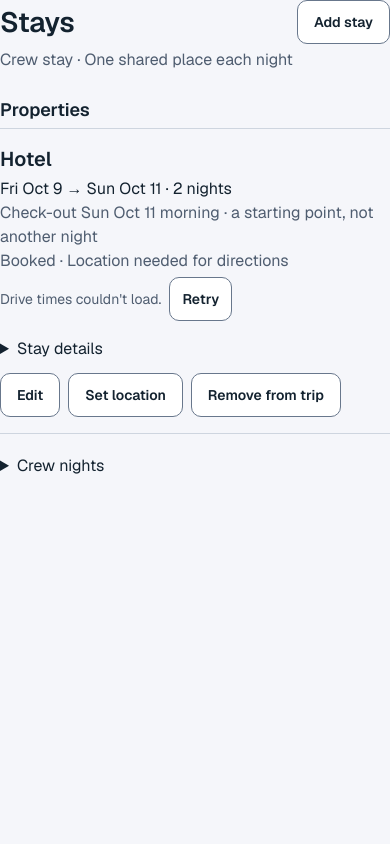
Test: Crew stays editor › previews removal and keeps the saved row when removal fails
Click the button with aria-label "Remove Hotel from trip".
click(266, 395)  # box [191,373,341,417]
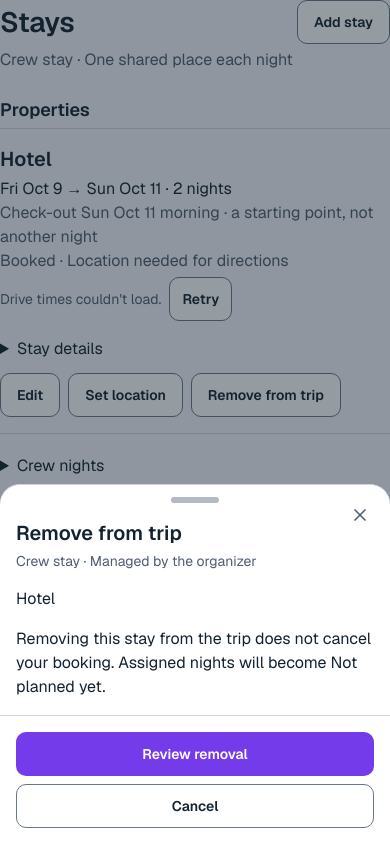
Expected: the text "does not cancel your booking" is shown, [16,628,371,673]
Click the button "Review removal".
click(195, 754)  # box [16,732,374,776]
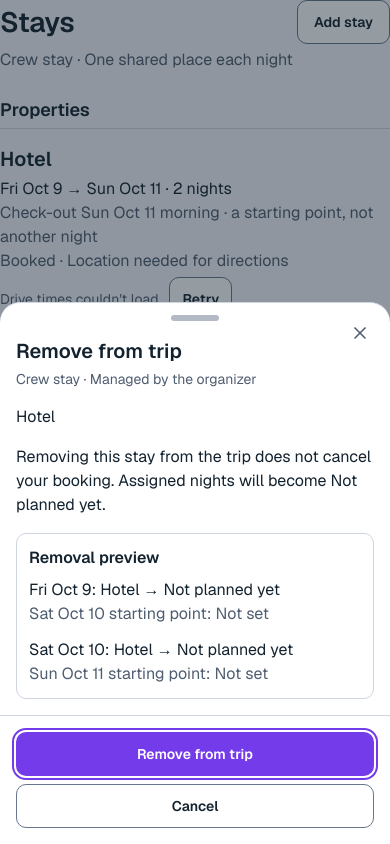
Expected: the text "Sat Oct 10 starting point: Not set" is shown, [29,603,269,624]
Click the button "Remove from trip".
click(195, 754)  # box [16,732,374,776]
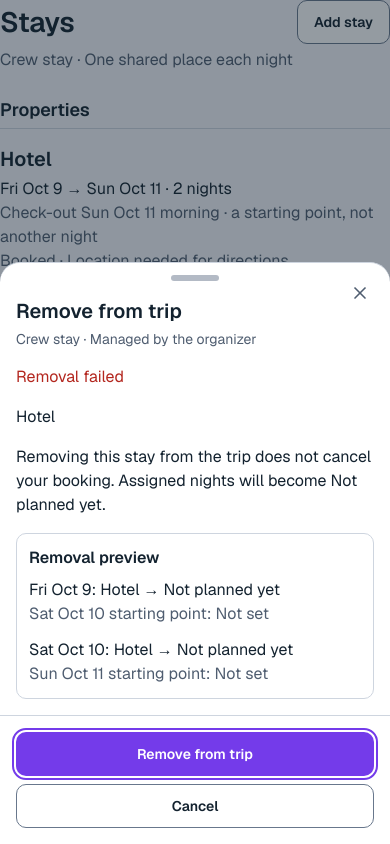
Expected: the heading "Hotel" is shown, [0,146,52,172]
Expected: the message reads "Removal failed", [16,366,124,387]
